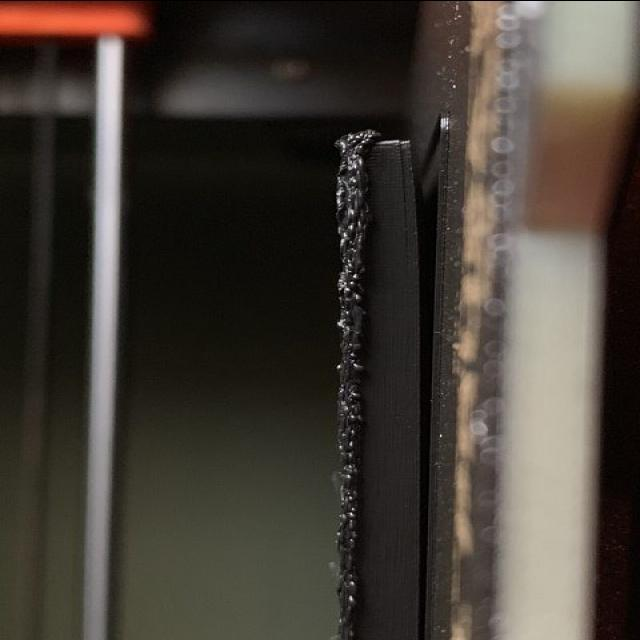Warping: (392, 138, 437, 262)
